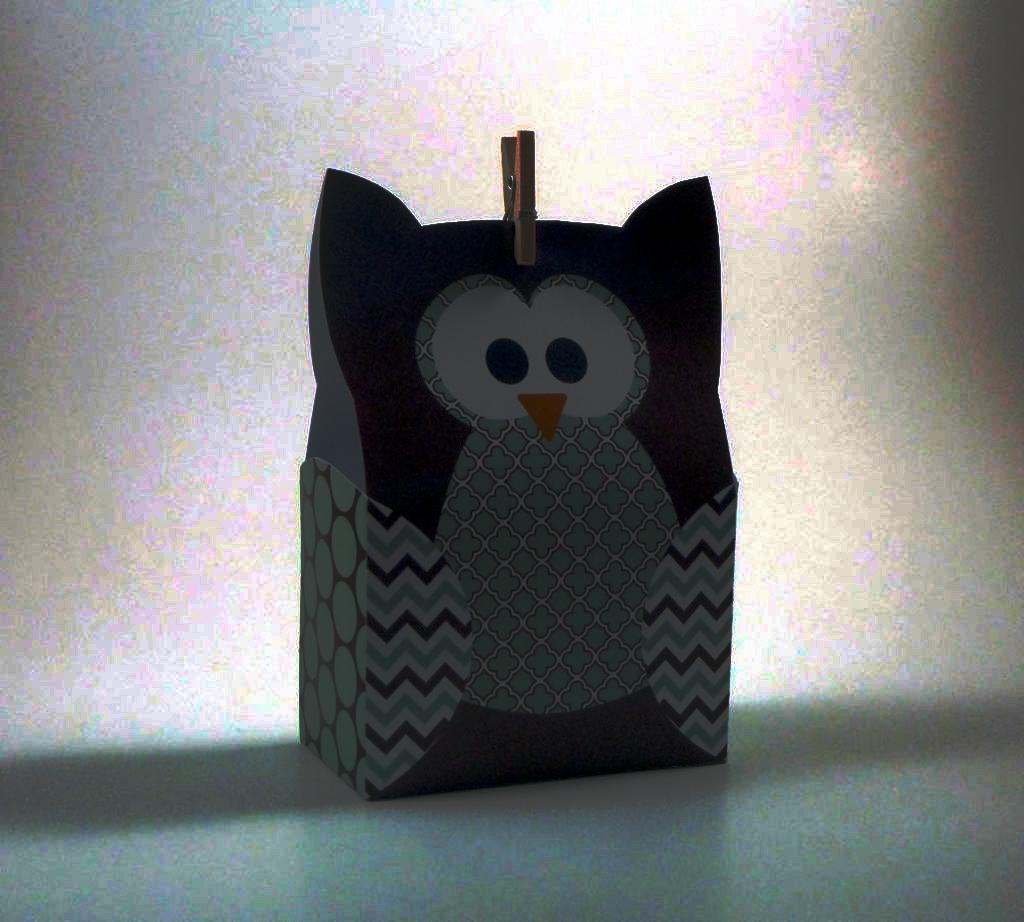Owl: (292, 161, 727, 806)
